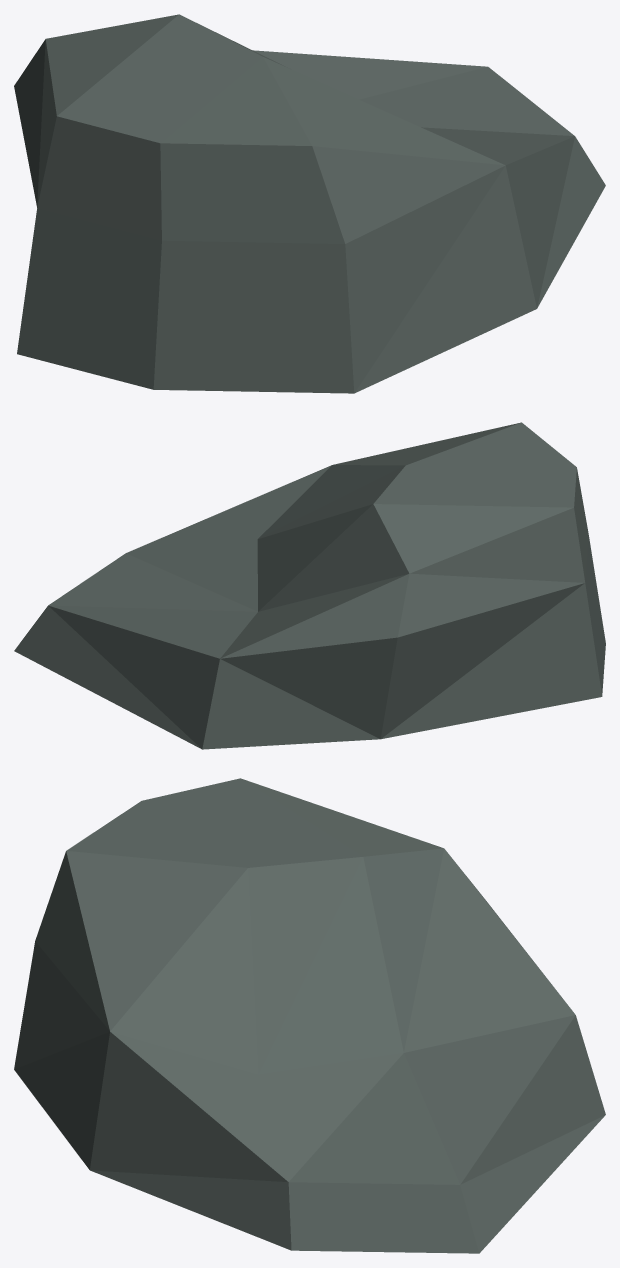
The model's file is SM_Rock_I.glb.
The picture shows the model from 3 angles, top to bottom: view 1: azimuth 30°, elevation 25°; view 2: azimuth 150°, elevation 25°; view 3: azimuth 270°, elevation 25°; orthographic projection. The views are drawn at different scales.
Parts seen in each view (by area): view 1: SM_Rock_I; view 2: SM_Rock_I; view 3: SM_Rock_I.
Boxes of the visible parts, x1,y1,x2,y2 form: SM_Rock_I: (14,14,605,393); SM_Rock_I: (14,422,605,749); SM_Rock_I: (14,778,605,1253).
Size of the model in its own units: 0.9283 by 0.3389 by 0.8298.
Materials: 1 (1 with a texture image).
